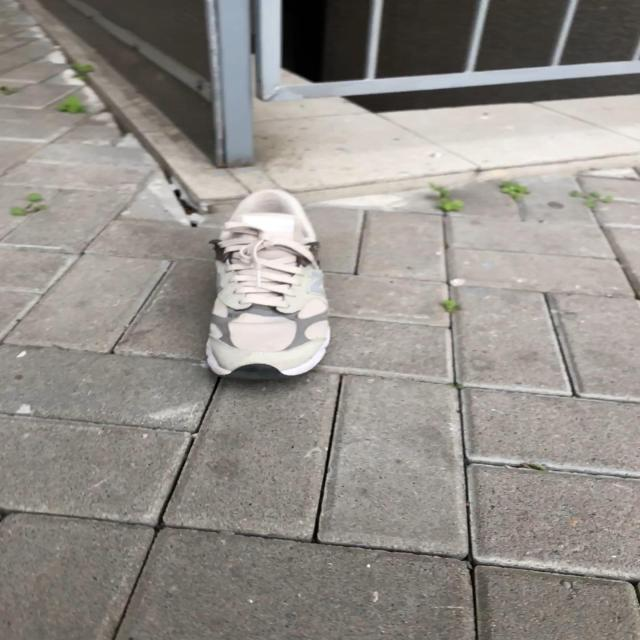shoe: (204, 189, 332, 382)
